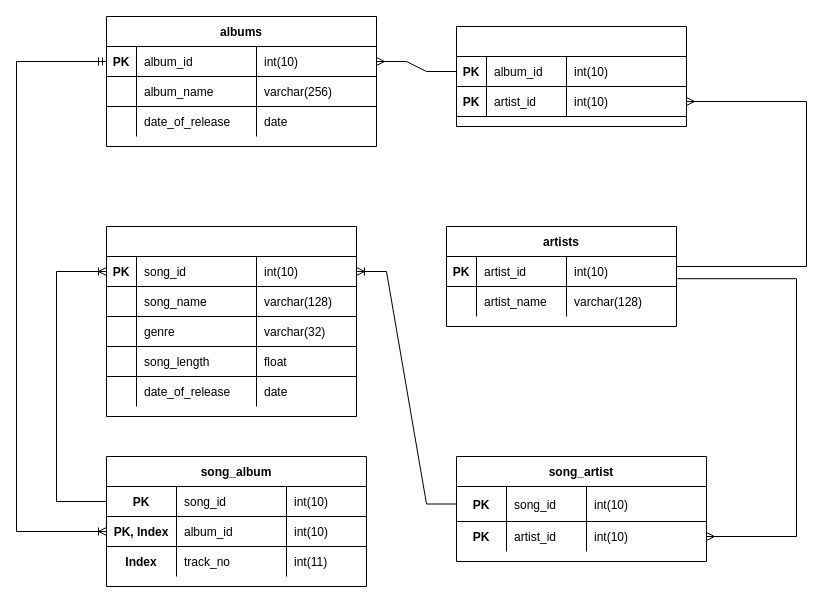
Some shapes in this 823 by 603 pixel diagram are drawn without their labels. Each missing label, with the box of its shape:
album_artist: (456, 26, 686, 126)
songs: (106, 226, 356, 416)
